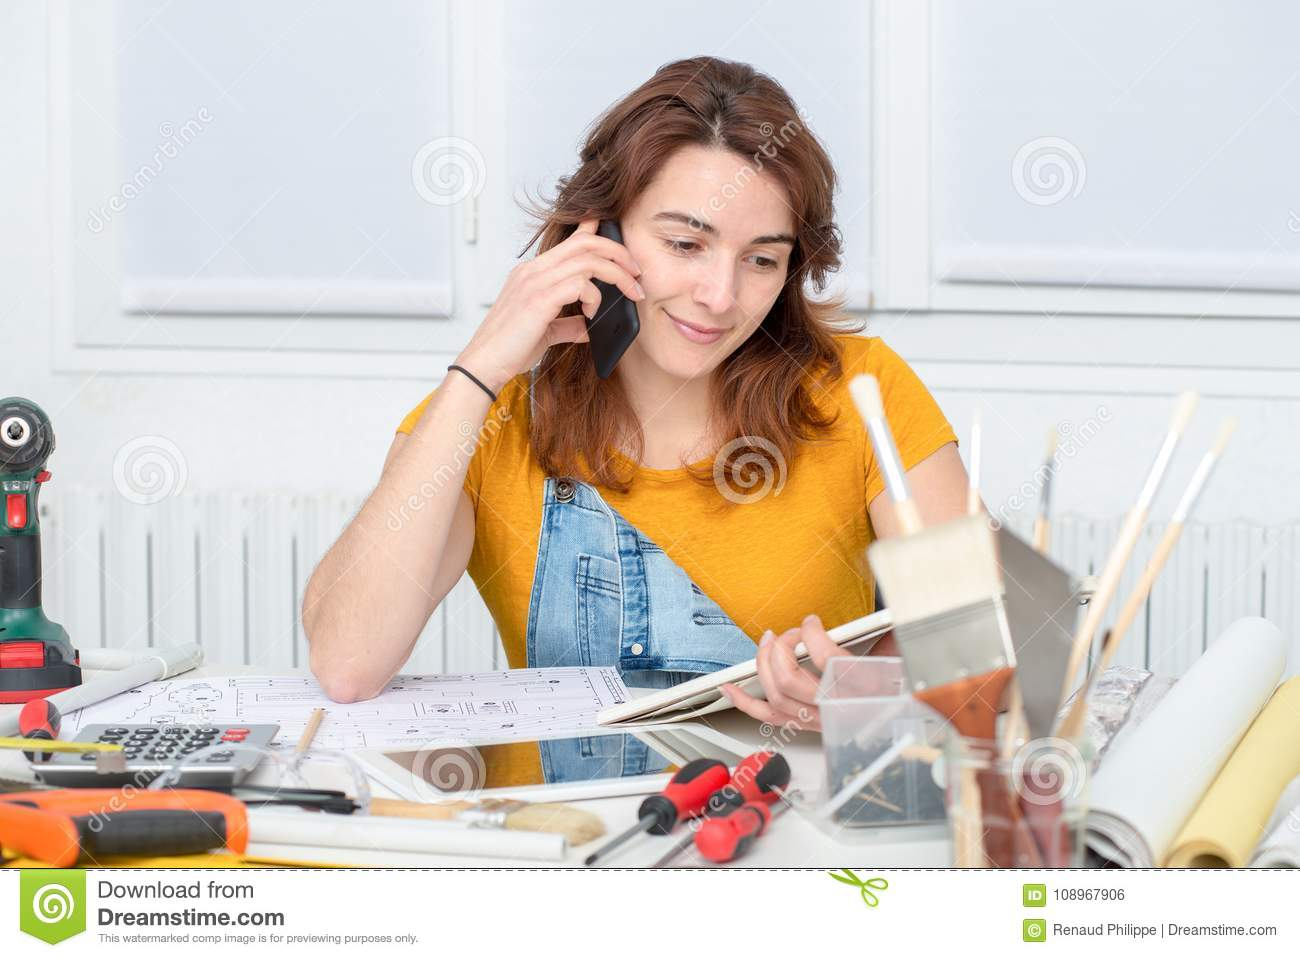phone: (579, 212, 643, 383)
talk: (467, 181, 800, 398)
